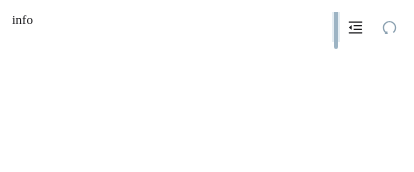
Test: workstation splitter › collapses and expands the info column, remembers it, and surfaces a pending gate while hidden
Later steps or results of the test are not shown.
Click the button named "收起信息栏".
click(355, 27)  # box [340,12,370,42]
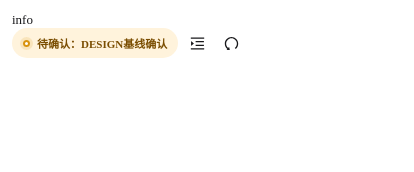
Expected: the button named "展开信息栏" is collapsed, [182,28,212,58]
Expected: the button with test id "ws-attention" shows "DESIGN基线确认", [12,28,178,58]
